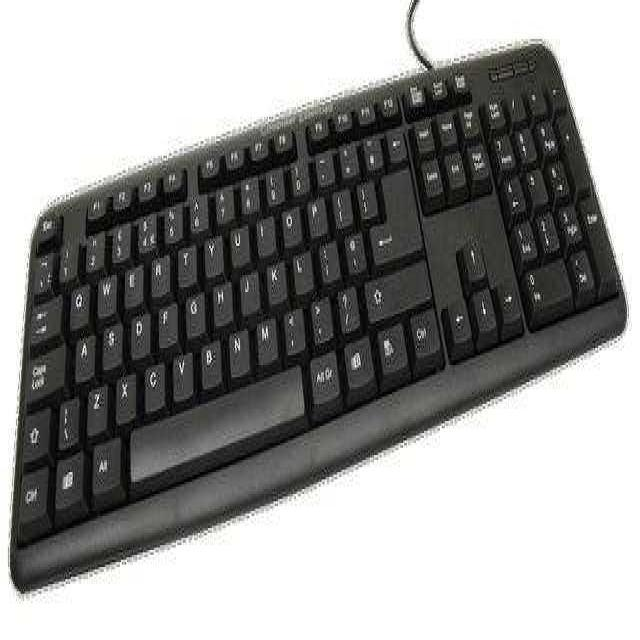keyboard: (13, 41, 632, 594)
